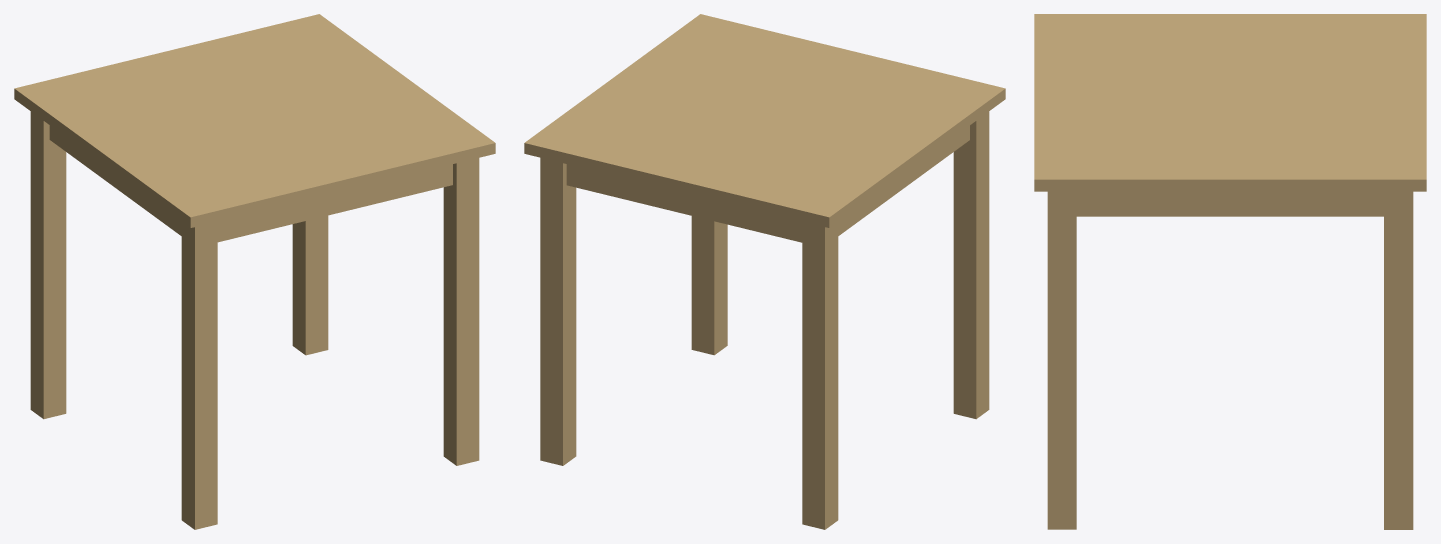
3 renders of one model, left to right at view 1: azimuth 30°, elevation 25°; view 2: azimuth 150°, elevation 25°; view 3: azimuth 270°, elevation 25°, orthographic. The views are drawn at different scales.
Parts seen in each view (by area): view 1: Mesh1 Tabletop1 Model, Mesh2 Leg1 Model, Mesh3 Leg2 Model, Mesh4 Leg3 Model, Mesh6 Brace1 Model, Mesh5 Leg4 Model, Mesh7 Brace2 Model; view 2: Mesh1 Tabletop1 Model, Mesh4 Leg3 Model, Mesh5 Leg4 Model, Mesh2 Leg1 Model, Mesh9 Brace4 Model, Mesh3 Leg2 Model, Mesh7 Brace2 Model; view 3: Mesh1 Tabletop1 Model, Mesh3 Leg2 Model, Mesh5 Leg4 Model, Mesh8 Brace3 Model.
Part boxes in pixels (x1=…): Mesh1 Tabletop1 Model: x1=14, y1=14, x2=495, y2=227; Mesh2 Leg1 Model: x1=181, y1=221, x2=217, y2=529; Mesh3 Leg2 Model: x1=443, y1=158, x2=479, y2=465; Mesh4 Leg3 Model: x1=30, y1=111, x2=66, y2=419; Mesh6 Brace1 Model: x1=217, y1=164, x2=452, y2=242; Mesh5 Leg4 Model: x1=292, y1=215, x2=328, y2=355; Mesh7 Brace2 Model: x1=49, y1=125, x2=181, y2=235; Mesh1 Tabletop1 Model: x1=524, y1=14, x2=1005, y2=227; Mesh4 Leg3 Model: x1=802, y1=221, x2=838, y2=529; Mesh5 Leg4 Model: x1=540, y1=157, x2=576, y2=465; Mesh2 Leg1 Model: x1=953, y1=111, x2=989, y2=419; Mesh9 Brace4 Model: x1=566, y1=164, x2=802, y2=242; Mesh3 Leg2 Model: x1=691, y1=216, x2=727, y2=355; Mesh7 Brace2 Model: x1=838, y1=125, x2=969, y2=235; Mesh1 Tabletop1 Model: x1=1034, y1=14, x2=1426, y2=191; Mesh3 Leg2 Model: x1=1047, y1=191, x2=1076, y2=529; Mesh5 Leg4 Model: x1=1384, y1=191, x2=1413, y2=529; Mesh8 Brace3 Model: x1=1076, y1=191, x2=1383, y2=216.
Bounding box in the file's own units: 0.5773 × 0.5775 × 0.5773.
